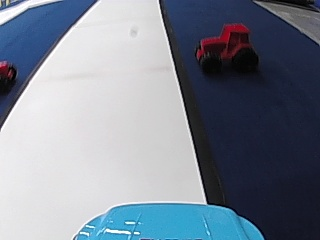tractor: (192, 21, 260, 75), (0, 59, 17, 92)
